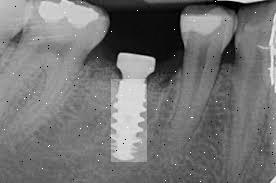Straumann: (105, 77, 151, 165)
